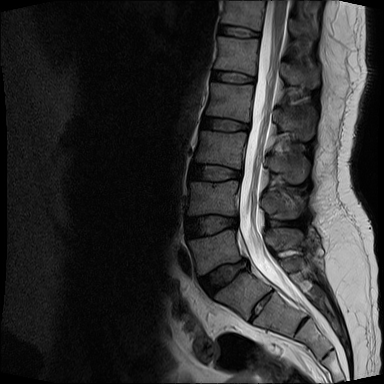Lumbar Disc Bulge (LDB): (194, 251, 256, 304), (181, 209, 244, 246)
Normal IVD: (180, 155, 246, 187), (194, 112, 254, 136), (204, 66, 258, 88), (212, 21, 264, 42)
Spinal Stenosis (SS): (239, 252, 255, 280)
